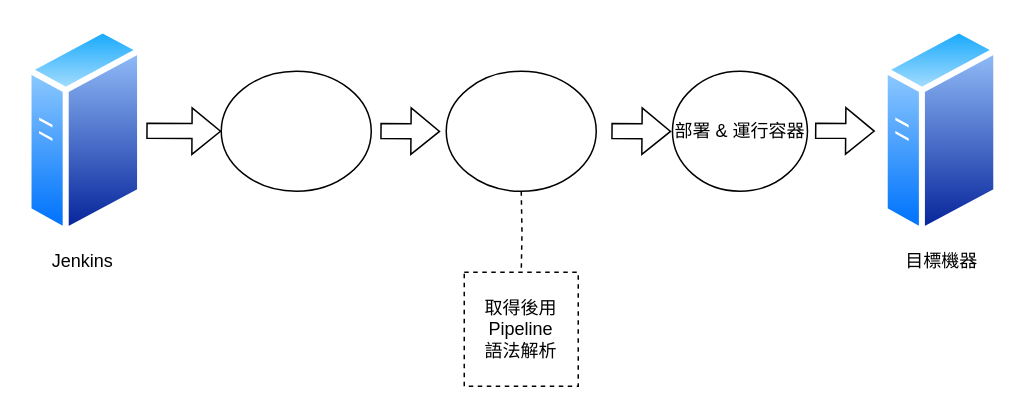
Some shapes in this 1026 by 413 pixel diagram are drawn without their labels. The shapes that lost their labels are listed below. From the top down, each one's box as (x1, y1, x2, y2) in pixels, then its label:
(220, 70, 371, 191): 執行 Pipeline 腳本
(445, 70, 596, 191): 取得 Git 上 機器位置
